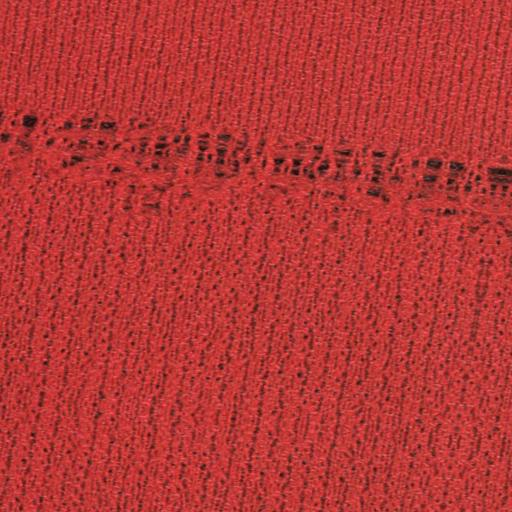slub: (1, 106, 511, 227)
